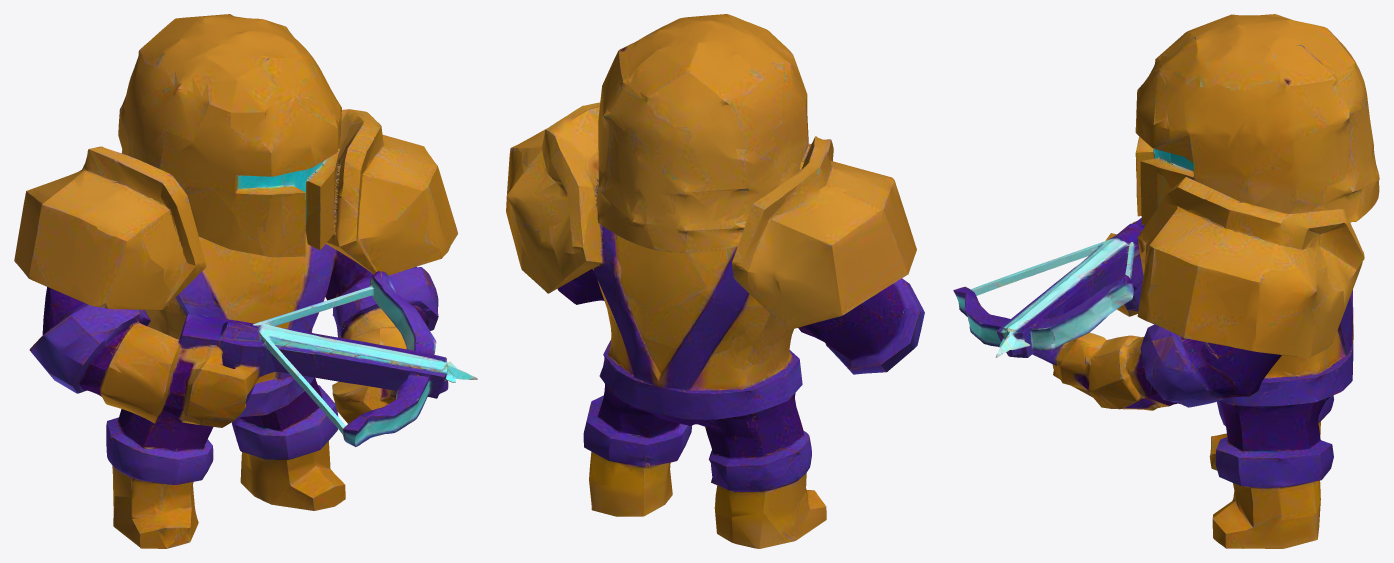
Rendered from m-arena-heroe.glb.
3 views of the same model, side by side, from view 1: azimuth 30°, elevation 25°; view 2: azimuth 150°, elevation 25°; view 3: azimuth 270°, elevation 25° (orthographic).
Size of the model in its own units: 1.66 by 1.9 by 1.54.
1 material, 1 textured.
